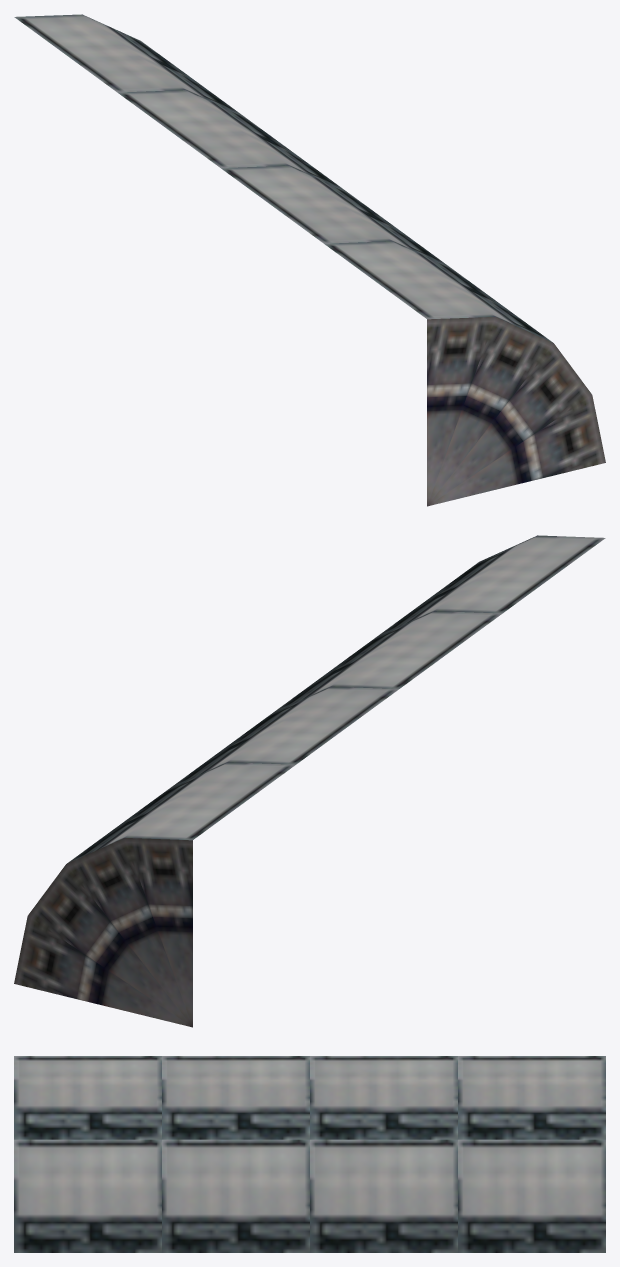
File: prop-067.glb
3 renders of one model, top to bottom at view 1: azimuth 30°, elevation 25°; view 2: azimuth 150°, elevation 25°; view 3: azimuth 270°, elevation 25°, orthographic. The views are drawn at different scales.
Visible parts, largest first — view 1: root; view 2: root; view 3: root.
Boxes of the visible parts, left/top/right/bottom form: root: left=14, top=14, right=605, bottom=506; root: left=14, top=535, right=605, bottom=1027; root: left=14, top=1056, right=605, bottom=1252.
Size of the model in its own units: 1 by 1 by 4.
Materials: 2 (2 with a texture image).
